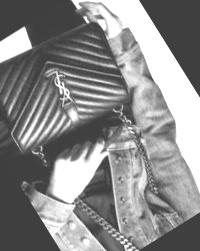YVES-SAINT-LAURENT: (42, 66, 76, 105)
